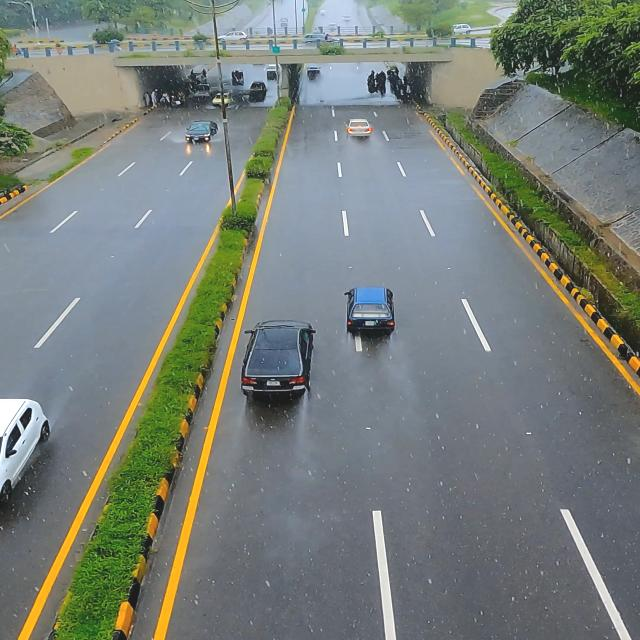Vehicle: (231, 314, 319, 406), (339, 283, 399, 338), (182, 118, 222, 146), (342, 113, 373, 142)
